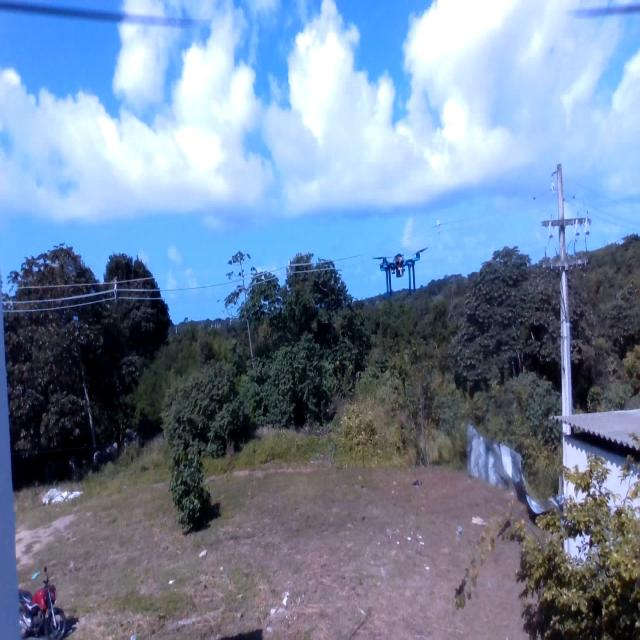-uav-: (370, 233, 432, 314)
